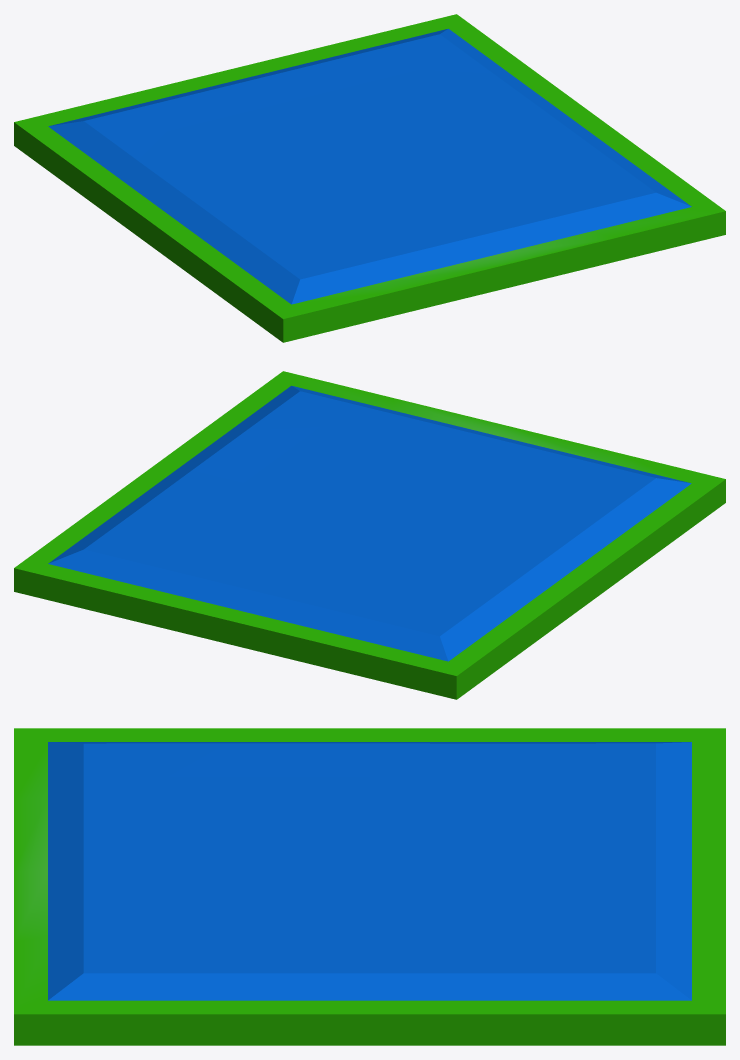
The model's file is CPU.fbx.
3 views of the same model, one above another, from view 1: azimuth 30°, elevation 25°; view 2: azimuth 150°, elevation 25°; view 3: azimuth 270°, elevation 25° (orthographic). The views are drawn at different scales.
Visible parts, largest first — view 1: CPU; view 2: CPU; view 3: CPU.
Boxes of the visible parts, box(x1,y1,x2,y2) form: CPU: box(14, 14, 725, 342); CPU: box(14, 371, 725, 699); CPU: box(14, 728, 725, 1045).
Bounding box in the file's own units: 3.2 × 0.3724 × 3.37.
